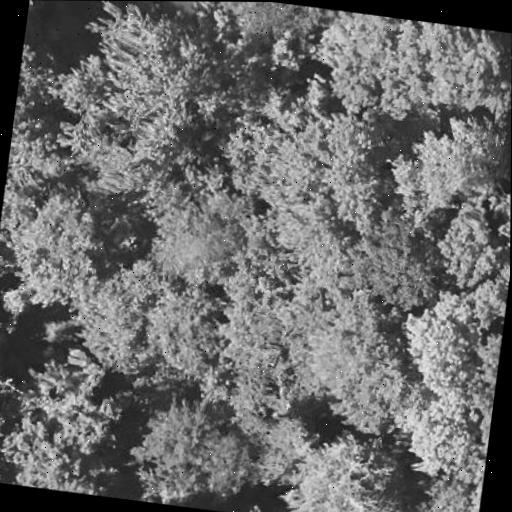tree-top: (302, 7, 512, 128), (91, 1, 244, 162), (222, 97, 388, 231), (281, 292, 417, 439), (0, 352, 130, 497), (0, 181, 133, 318), (121, 388, 256, 512), (386, 109, 511, 222), (329, 209, 455, 318), (137, 267, 236, 389), (75, 251, 165, 376), (286, 420, 403, 512), (431, 183, 511, 314), (398, 282, 493, 392), (241, 193, 341, 291), (403, 391, 487, 482), (6, 121, 87, 195), (167, 214, 236, 277), (256, 17, 315, 82), (14, 35, 56, 120), (51, 50, 104, 116), (227, 2, 305, 38)
